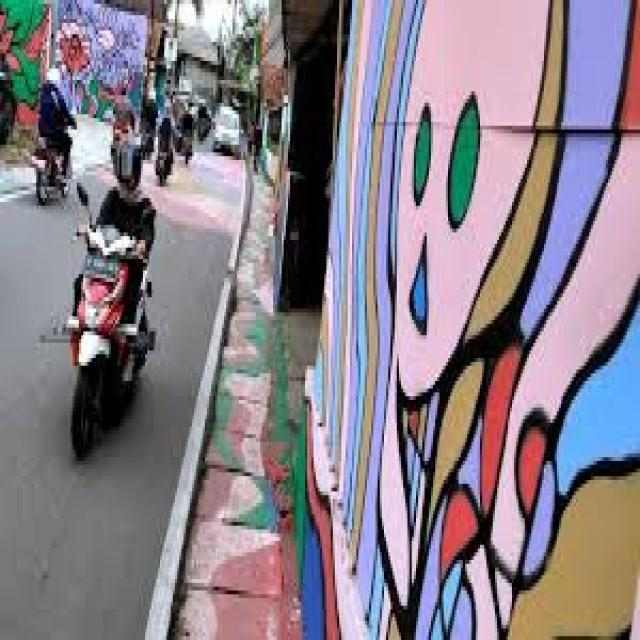-: (308, 1, 640, 640), (51, 0, 146, 137), (1, 4, 46, 128)
